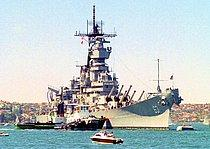MIL_Ship: (54, 1, 177, 129)
